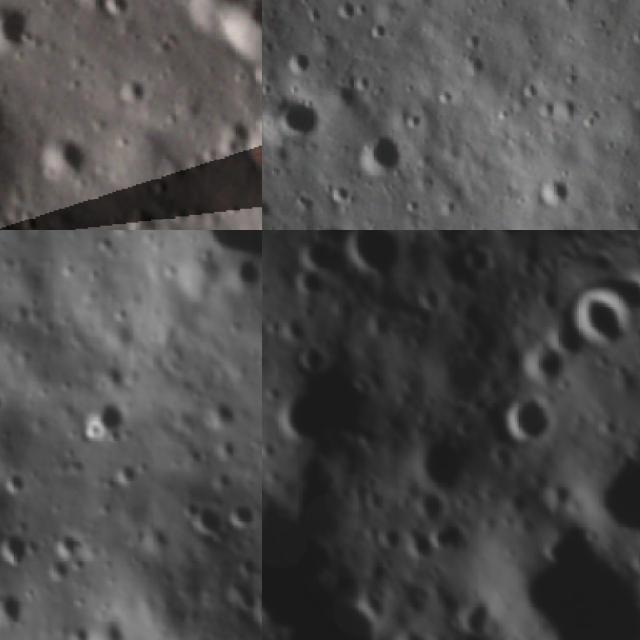crater: (551, 413, 640, 579), (480, 375, 574, 469), (262, 370, 350, 463), (402, 418, 491, 508), (541, 288, 625, 381), (32, 121, 110, 200), (334, 230, 428, 293), (200, 0, 262, 90), (0, 71, 40, 198), (160, 0, 259, 51), (417, 504, 483, 571), (512, 336, 576, 402), (201, 108, 262, 172), (0, 0, 48, 73), (350, 129, 410, 185), (447, 588, 509, 640), (284, 254, 339, 312), (109, 61, 163, 117), (84, 391, 141, 444), (180, 490, 232, 548), (454, 233, 508, 288), (228, 103, 262, 189), (276, 92, 326, 144), (372, 615, 476, 640), (408, 274, 458, 324), (528, 168, 580, 212), (292, 336, 338, 382), (50, 522, 97, 566), (74, 608, 133, 640), (223, 495, 262, 540), (0, 522, 35, 571), (293, 230, 414, 244), (90, 0, 143, 31), (0, 584, 31, 630), (0, 464, 30, 504), (428, 230, 485, 250), (279, 47, 316, 76), (44, 554, 71, 588), (231, 550, 259, 579), (262, 230, 298, 247), (0, 384, 12, 418)
